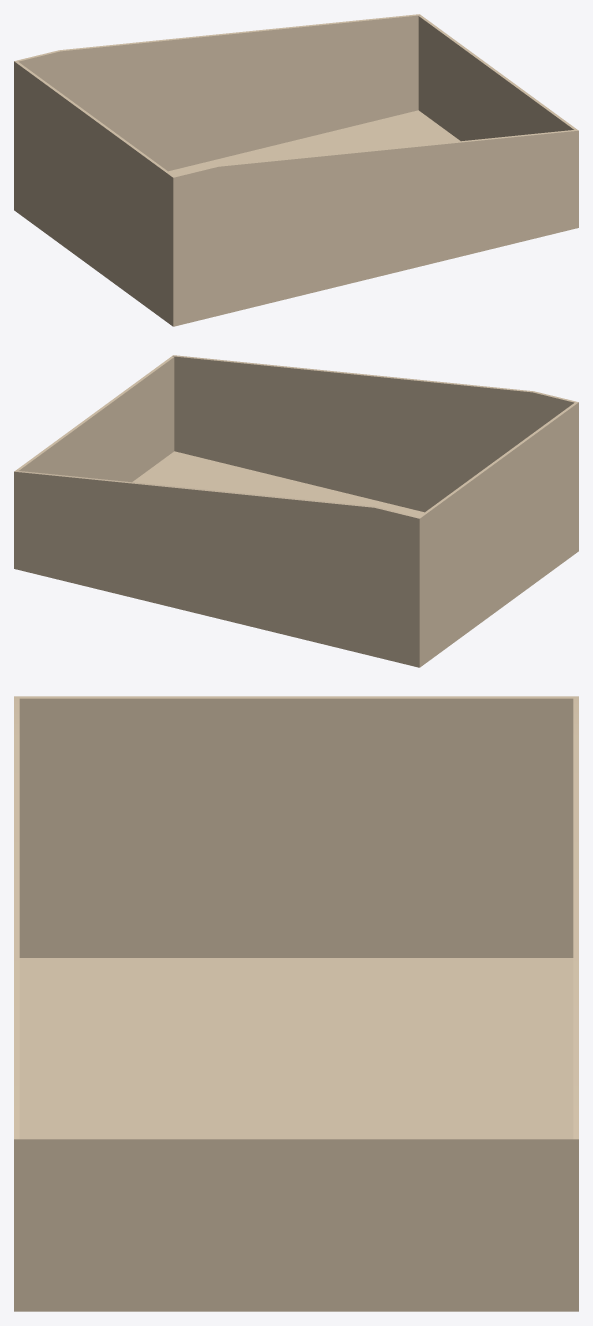
The model's file is box-finger-joints-boxprojectfinger.glb.
3 renders of one model, top to bottom at view 1: azimuth 30°, elevation 25°; view 2: azimuth 150°, elevation 25°; view 3: azimuth 270°, elevation 25°, orthographic. The views are drawn at different scales.
Parts seen in each view (by area): view 1: Assembly; view 2: Assembly; view 3: Assembly.
Part boxes in pixels (x1,y1,x2,y2): Assembly: [14, 14, 578, 326]; Assembly: [14, 355, 578, 667]; Assembly: [14, 696, 578, 1311].
Size of the model in its own units: 0.9 by 0.316 by 0.612.
